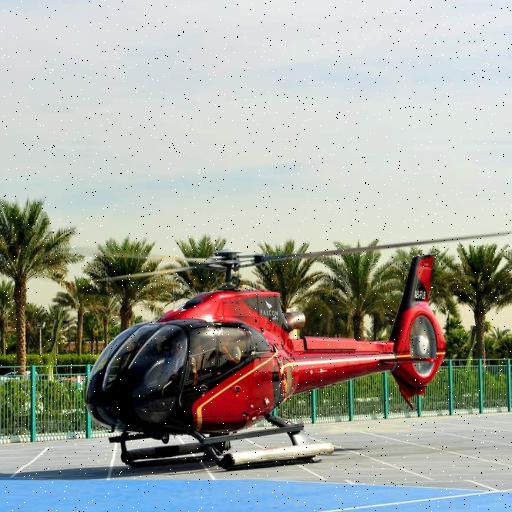helicopter: (61, 224, 512, 487)
